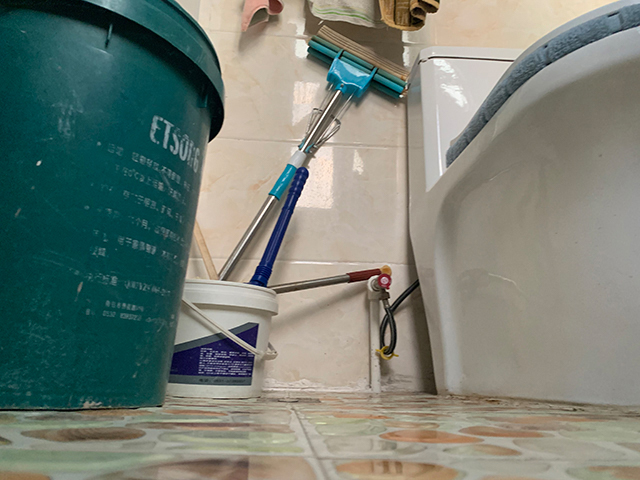closestool: (405, 1, 640, 412)
